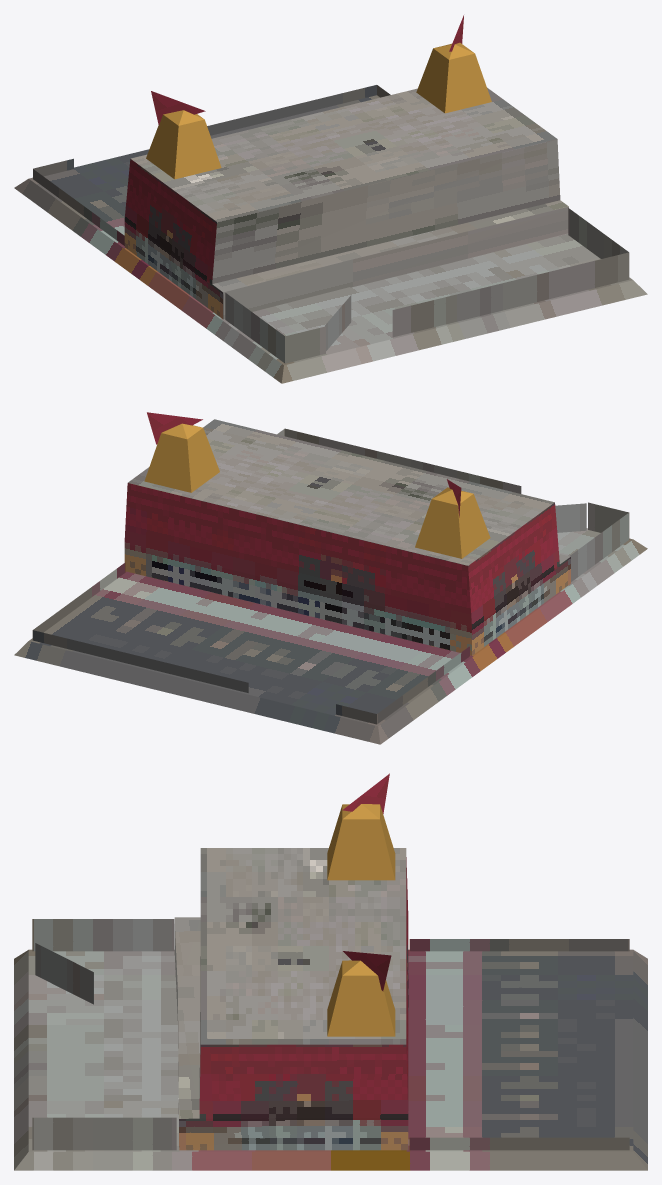
The model's file is lodckbell_sfs.obj.
The picture shows the model from 3 angles, top to bottom: view 1: azimuth 30°, elevation 25°; view 2: azimuth 150°, elevation 25°; view 3: azimuth 270°, elevation 25°; orthographic projection. The views are drawn at different scales.
Visible parts, largest first — view 1: lodckbell_SFS; view 2: lodckbell_SFS; view 3: lodckbell_SFS.
Boxes of the visible parts, bbox=[...] form: lodckbell_SFS: bbox=[14, 15, 647, 383]; lodckbell_SFS: bbox=[14, 412, 647, 744]; lodckbell_SFS: bbox=[14, 773, 647, 1170].
Bounding box in the file's own units: 41.96 × 18.62 × 53.07.
Materials: 4 (4 with a texture image).
